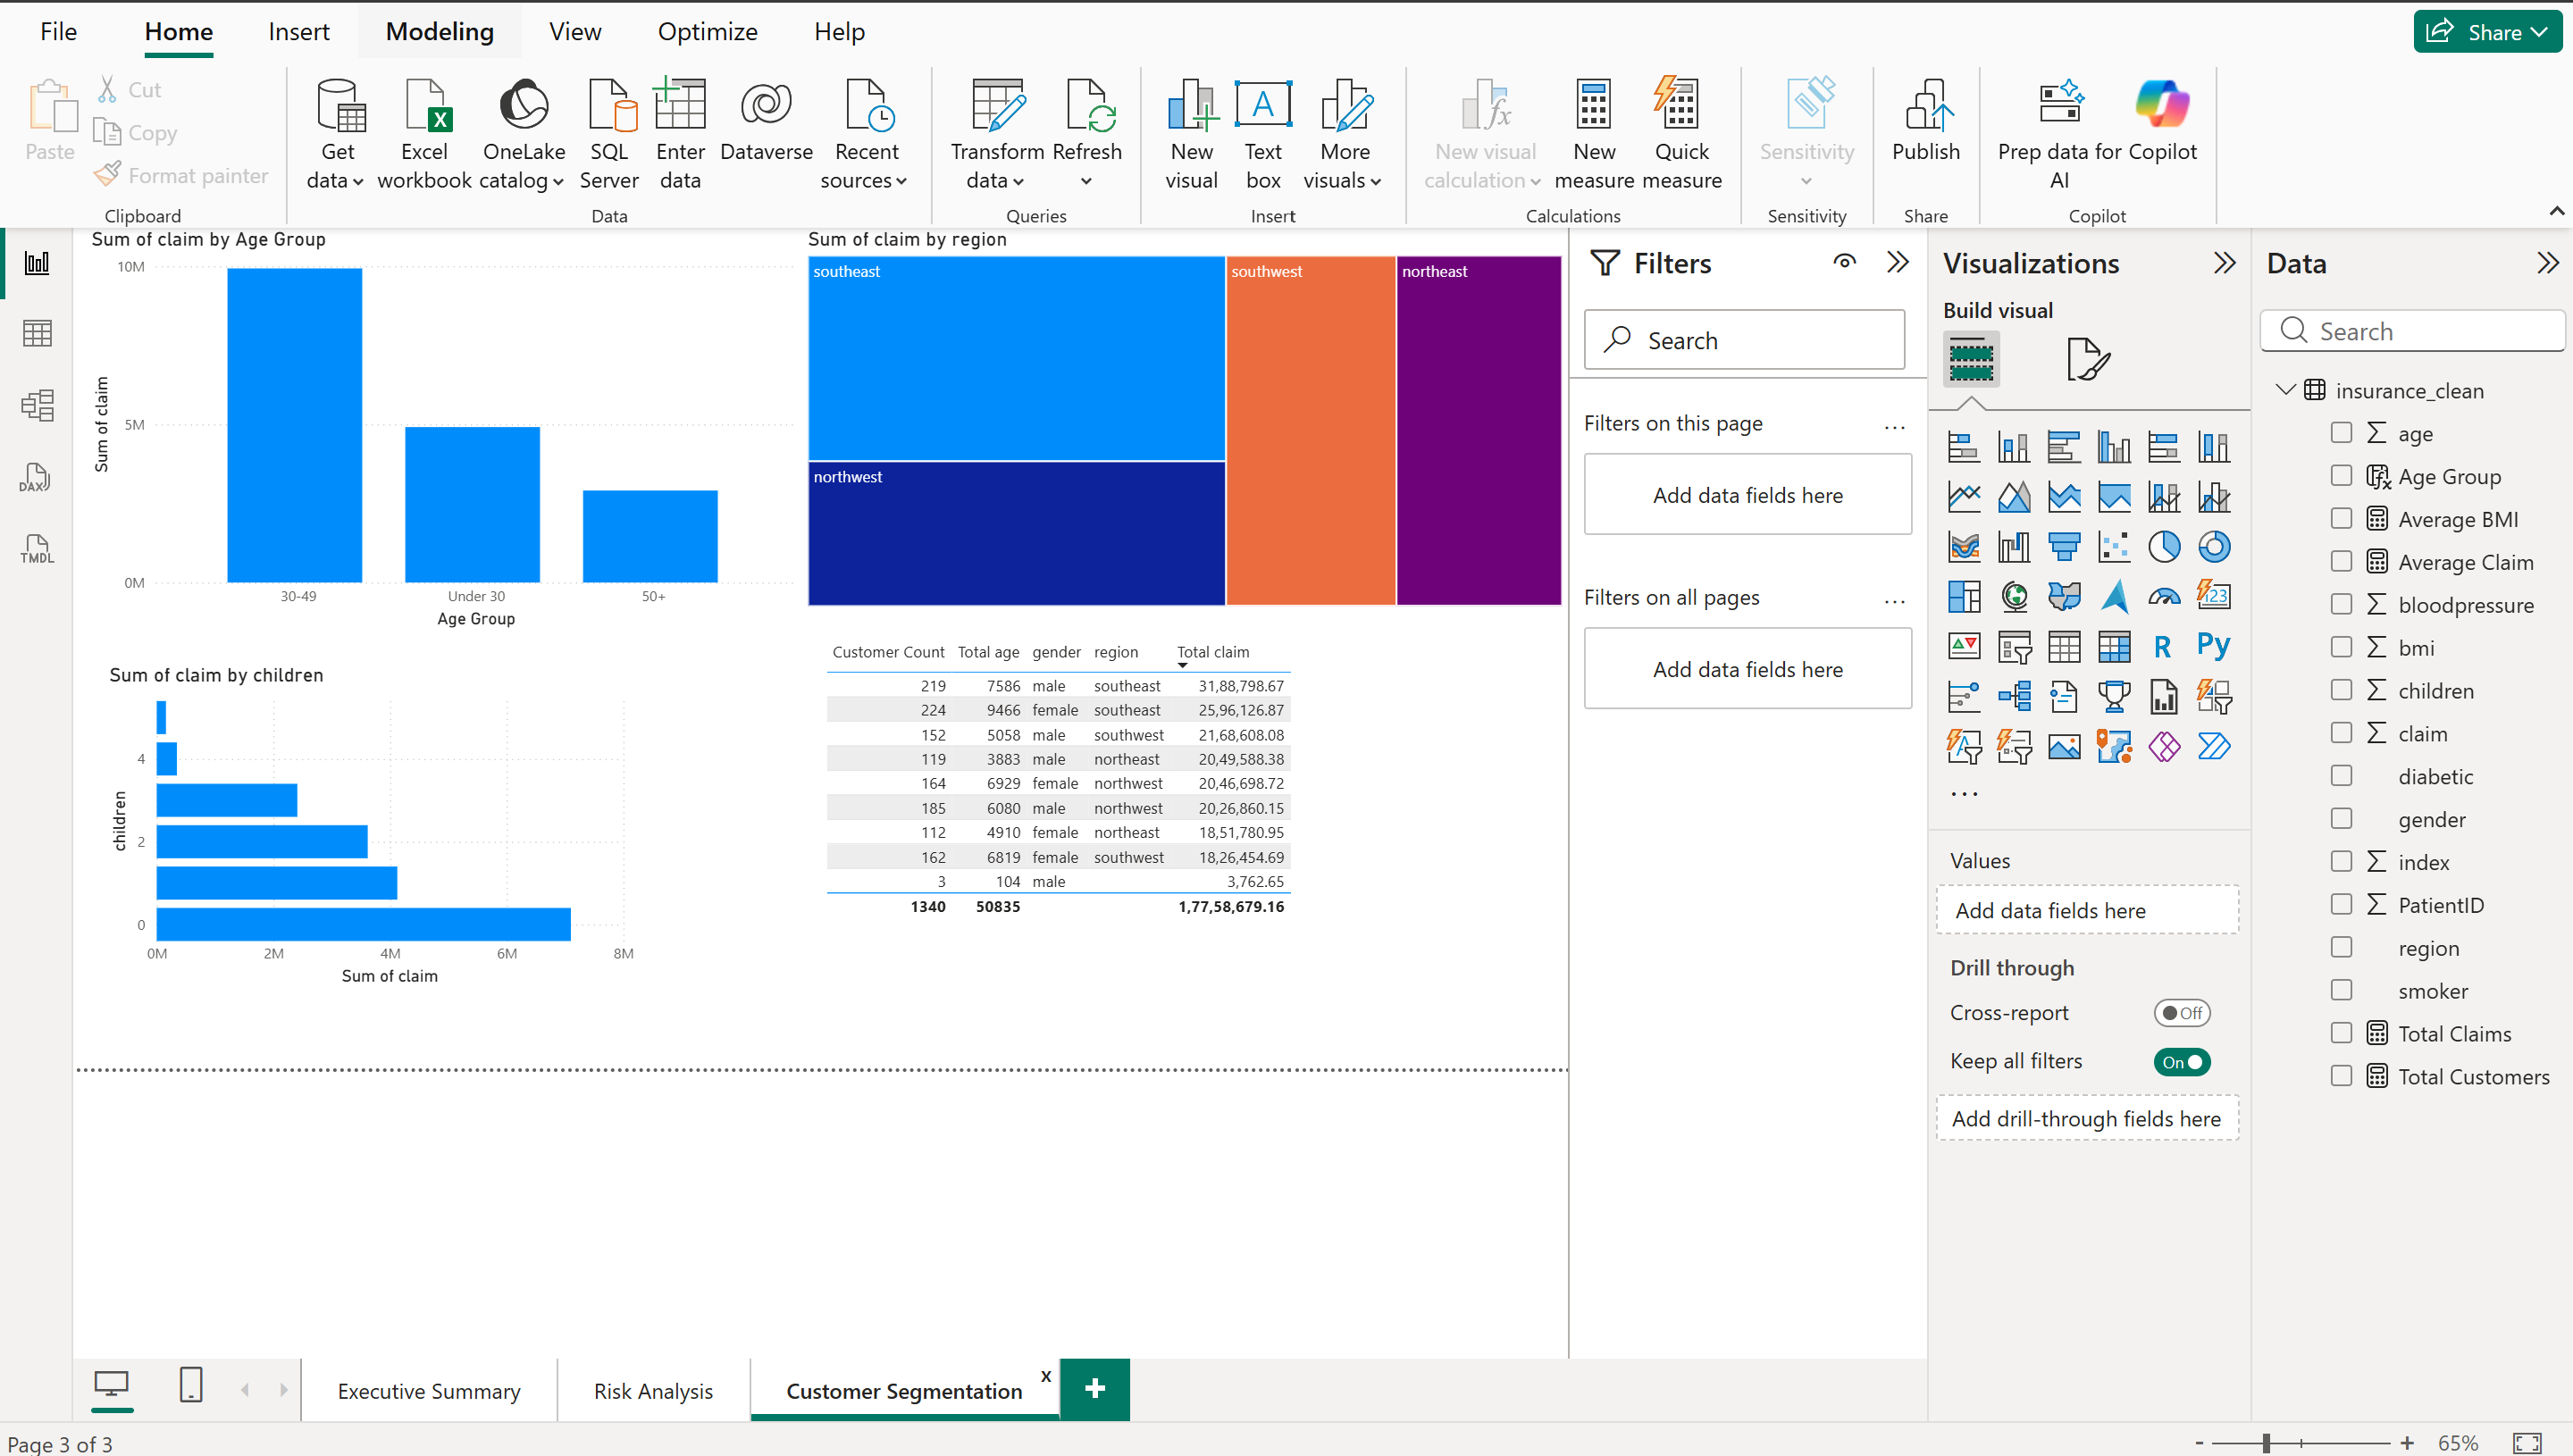

What the dashboard file says about the page in this screenshot:
{"tool":"powerbi","page":{"name":"Customer Segmentation","canvas":[1280,720],"ordinal":2},"visuals":[{"type":"clusteredColumnChart","fields":{"Category":["insurance_clean.Age Group"],"Y":["Sum(insurance_clean.claim)"]},"box":[10.7,0,614,347.6],"z":0},{"type":"clusteredBarChart","fields":{"Category":["insurance_clean.children"],"Y":["Sum(insurance_clean.claim)"]},"box":[26,373.6,459.3,280.2],"z":1000},{"type":"treemap","fields":{"Group":["insurance_clean.region"],"Values":["Sum(insurance_clean.claim)"]},"box":[624.7,0,655.3,329.2],"z":2000},{"type":"tableEx","fields":{"Values":["CountNonNull(insurance_clean.PatientID)","Sum(insurance_clean.age)","insurance_clean.gender","insurance_clean.region","Sum(insurance_clean.claim)"]},"box":[640,347.6,626.2,329.2],"z":3000}]}

Visuals, with their boxes on the page's 1280x720 design canvas (x1, y1, x2, y2). These are canvas units, not pixel positions in the 2573x1456 screenshot, which may show the page scaled, cropped or inside an application window:
clusteredColumnChart - insurance_clean.Age Group x Sum(insurance_clean.claim): [11,0,625,348]
clusteredBarChart - insurance_clean.children x Sum(insurance_clean.claim): [26,374,485,654]
treemap - insurance_clean.region x Sum(insurance_clean.claim): [625,0,1280,329]
tableEx - CountNonNull(insurance_clean.PatientID) x Sum(insurance_clean.age): [640,348,1266,677]
